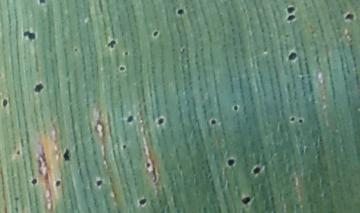tarspot: (21, 29, 38, 41), (32, 81, 45, 94), (62, 147, 71, 163), (342, 12, 355, 23), (286, 51, 297, 63), (106, 39, 117, 50), (138, 197, 149, 208), (174, 7, 186, 17), (251, 165, 261, 176), (155, 116, 166, 126), (285, 5, 297, 14), (29, 177, 41, 186), (1, 97, 9, 110), (240, 195, 250, 205), (286, 14, 297, 23), (225, 158, 236, 167), (208, 117, 219, 126), (124, 114, 134, 123), (94, 178, 103, 188), (53, 179, 62, 189), (151, 29, 159, 39), (232, 103, 240, 113), (12, 205, 22, 213), (288, 114, 296, 123), (144, 161, 152, 170), (14, 148, 22, 157), (122, 49, 130, 57), (118, 64, 126, 72), (72, 46, 79, 54), (297, 117, 304, 125), (121, 143, 128, 151), (12, 195, 20, 202), (37, 1, 47, 5)
